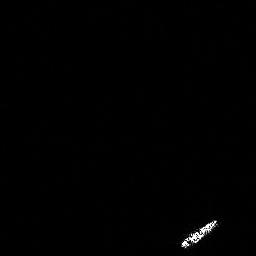ship: (179, 217, 219, 249)
